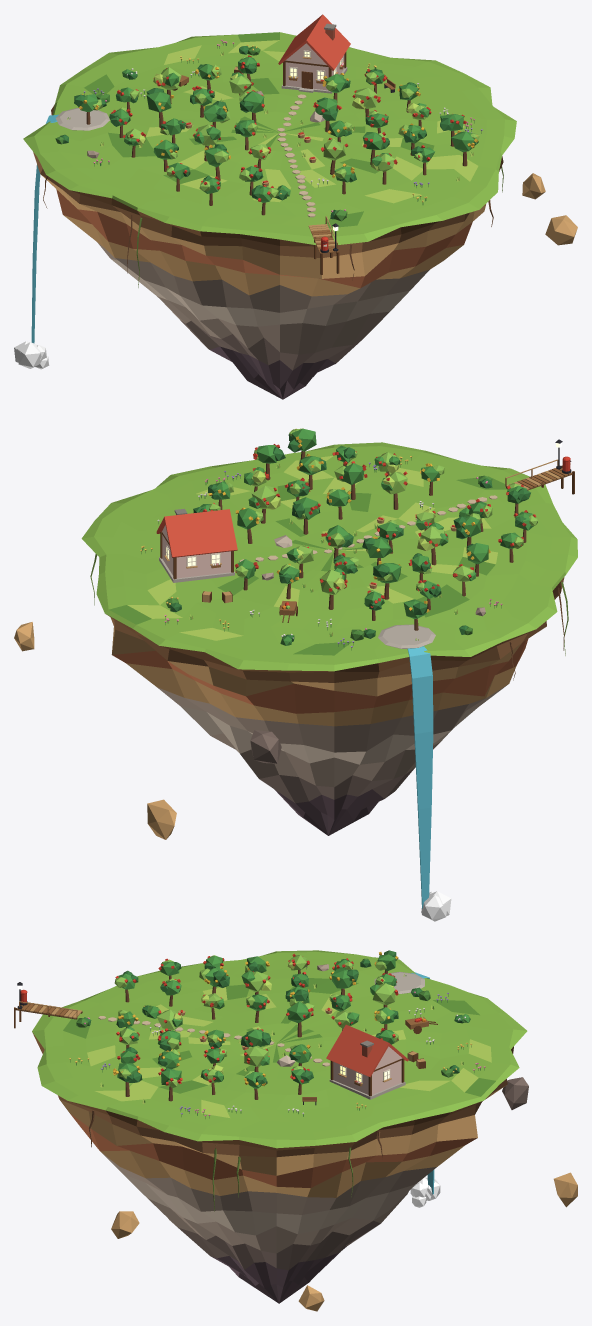
File: island_orchard.glb
3 views of the same model, one above another, from view 1: azimuth 30°, elevation 25°; view 2: azimuth 150°, elevation 25°; view 3: azimuth 270°, elevation 25° (orthographic). The views are drawn at different scales.
Parts seen in each view (by area): view 1: Island-col, Dressing, Debris, WaterfallPond, Waterfall, WaterfallMist; view 2: Island-col, Dressing, Waterfall, Debris, WaterfallPond, WaterfallMist; view 3: Island-col, Dressing, Debris, WaterfallMist, WaterfallPond, Roots.
Boxes of the visible parts, x1,y1,x2,y2 form: Island-col: (23, 32, 516, 399); Dressing: (55, 14, 482, 274); Debris: (522, 173, 577, 245); WaterfallPond: (55, 108, 109, 130); Waterfall: (31, 114, 58, 343); WaterfallMist: (14, 341, 49, 369); Island-col: (81, 442, 577, 835); Dressing: (140, 428, 574, 650); Waterfall: (407, 646, 433, 908); Debris: (14, 622, 281, 839); WaterfallPond: (378, 624, 435, 648); WaterfallMist: (421, 891, 451, 921); Island-col: (32, 950, 527, 1303); Dressing: (14, 950, 485, 1118); Debris: (111, 1077, 577, 1311); WaterfallMist: (410, 1177, 440, 1207); WaterfallPond: (374, 971, 424, 993); Roots: (89, 1110, 382, 1211).
Size of what is drawn, in the model's own units: 66.05 by 40.92 by 68.22.
